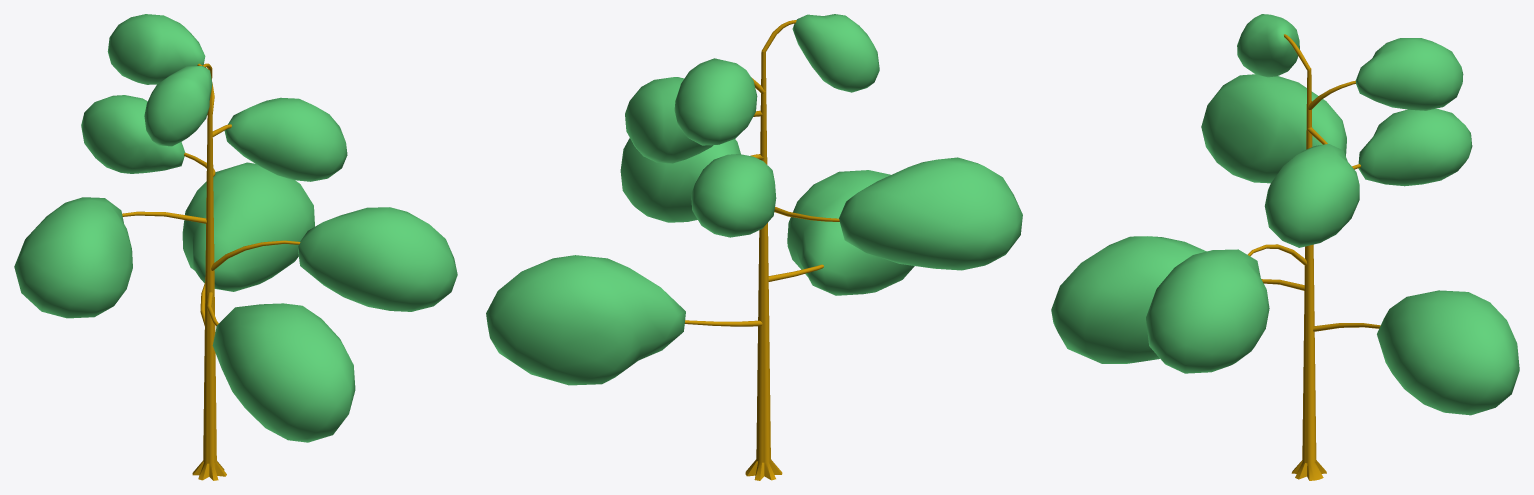
File: Tree2_LODGroup.fbx
The picture shows the model from 3 angles, left to right: view 1: azimuth 30°, elevation 25°; view 2: azimuth 150°, elevation 25°; view 3: azimuth 270°, elevation 25°; orthographic projection. The views are drawn at different scales.
Parts seen in each view (by area): view 1: Tree_LOD0; view 2: Tree_LOD0; view 3: Tree_LOD0.
Part boxes in pixels (x1=…): Tree_LOD0: x1=14, y1=14, x2=457, y2=480; Tree_LOD0: x1=486, y1=14, x2=1022, y2=480; Tree_LOD0: x1=1051, y1=14, x2=1519, y2=480.
Size of what is drawn, in the model's own units: 3223 by 3321 by 3252.
